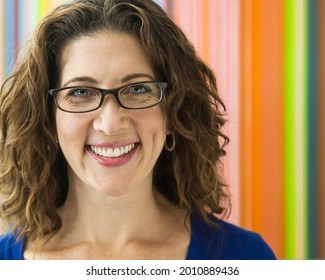NoMask: (57, 68, 165, 192)
